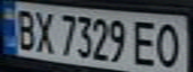2: (90, 15, 112, 62)
3: (72, 12, 93, 60)
7: (54, 10, 78, 56)
9: (106, 16, 133, 64)
B: (9, 6, 39, 52)
E: (130, 17, 160, 68)
O: (151, 19, 187, 70)
X: (30, 7, 57, 54)
